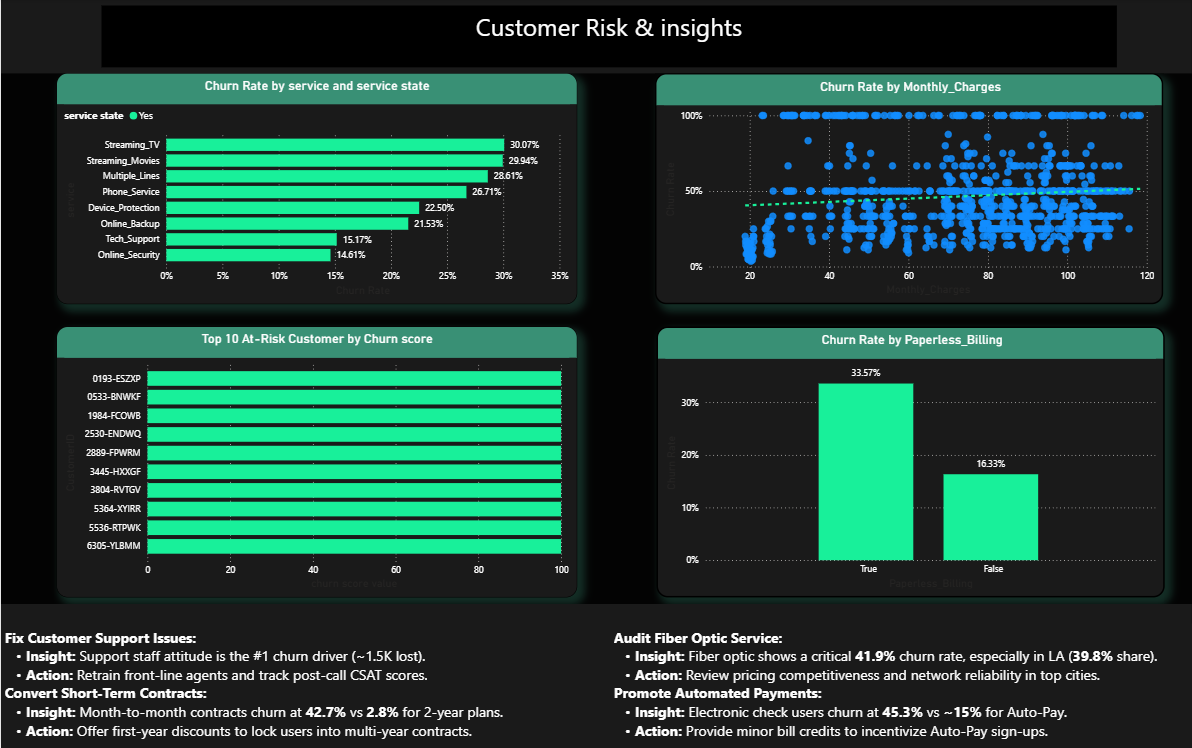

The page's visual inventory and layout, read from the dashboard file:
{"tool":"powerbi","page":{"name":"Page 3","canvas":[1580,1000],"ordinal":2},"visuals":[{"type":"clusteredBarChart","fields":{"Category":["Telco_customer_churn_cleaned.service"],"Y":["Telco_customer_churn_cleaned.Churn Rate"],"Series":["Telco_customer_churn_cleaned.service state"]},"box":[73.6,99.5,690.6,306.5],"z":0},{"type":"clusteredBarChart","title":"Top 10 At-Risk Customer by Churn score","fields":{"Category":["Telco_customer_churn_cleaned.CustomerID"],"Y":["Telco_customer_churn_cleaned.churn score value"]},"box":[73.6,435.7,690.6,359.6],"z":1000},{"type":"scatterChart","fields":{"Y":["Telco_customer_churn_cleaned.Churn Rate"],"X":["Telco_customer_churn_cleaned.Monthly_Charges"]},"box":[868.3,100.1,674.2,306.5],"z":2000},{"type":"clusteredColumnChart","fields":{"Category":["Telco_customer_churn_cleaned.Paperless_Billing"],"Y":["Telco_customer_churn_cleaned.Churn Rate"]},"box":[869.4,435.7,674.2,359.6],"z":3000},{"type":"shape","box":[0,0,1579.3,100.1],"z":4000},{"type":"textbox","box":[132.8,10.2,1346.4,81.7],"z":5000},{"type":"shape","box":[0,803.7,1579.6,197],"z":6000},{"type":"textbox","box":[0,829.6,789.8,165.1],"z":7000},{"type":"textbox","box":[807.7,829.6,771.9,171.1],"z":8000}]}

Visuals, with their boxes in screenshot pixels (x1, y1, x2, y2), scaled from the page's 1580x1000 canvas onto the 1192x748 screenshot:
clusteredBarChart - Telco_customer_churn_cleaned.service x Telco_customer_churn_cleaned.Churn Rate: BBox(56, 74, 577, 304)
"Top 10 At-Risk Customer by Churn score" clusteredBarChart: BBox(56, 326, 577, 595)
scatterChart - Telco_customer_churn_cleaned.Churn Rate x Telco_customer_churn_cleaned.Monthly_Charges: BBox(655, 75, 1164, 304)
clusteredColumnChart - Telco_customer_churn_cleaned.Paperless_Billing x Telco_customer_churn_cleaned.Churn Rate: BBox(656, 326, 1165, 595)
shape: BBox(0, 0, 1191, 75)
textbox: BBox(100, 8, 1116, 69)
shape: BBox(0, 601, 1191, 747)
textbox: BBox(0, 621, 596, 744)
textbox: BBox(609, 621, 1191, 747)
